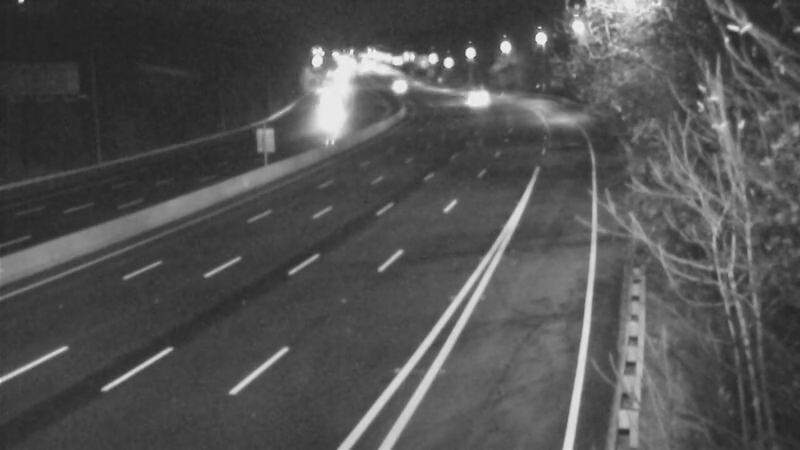vehicle: (370, 58, 420, 108), (446, 67, 496, 117), (298, 77, 348, 127)
